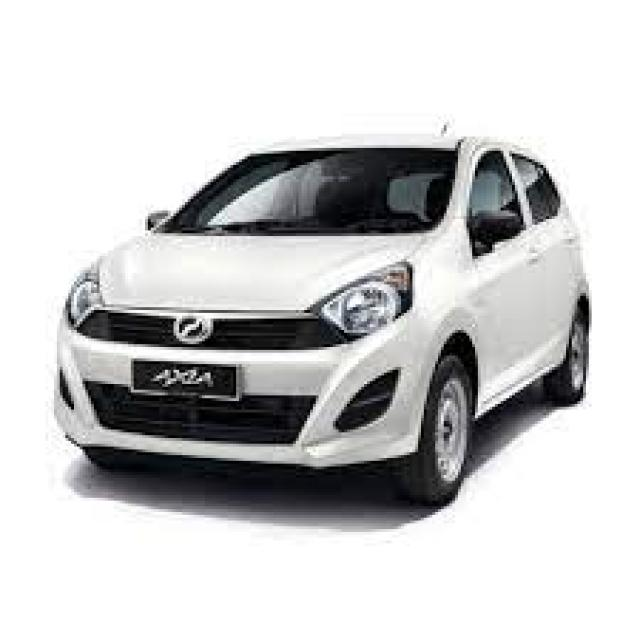PeroduaAxia: (51, 125, 592, 506)
